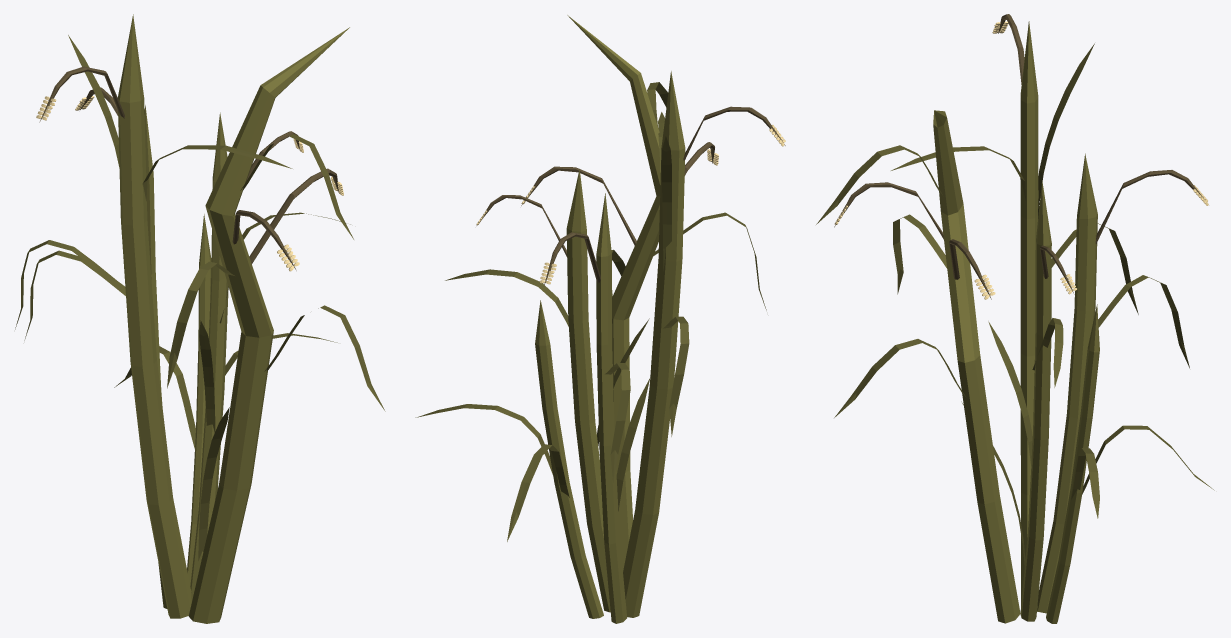
Rendered from Rice Ready.glb.
3 renders of one model, left to right at view 1: azimuth 30°, elevation 25°; view 2: azimuth 150°, elevation 25°; view 3: azimuth 270°, elevation 25°, orthographic. The views are drawn at different scales.
Visible parts, largest first — view 1: Cylinder.020; view 2: Cylinder.020; view 3: Cylinder.020.
Part boxes in pixels (<box>): Cylinder.020: <box>15,14,385,623</box>; Cylinder.020: <box>415,15,785,623</box>; Cylinder.020: <box>816,14,1214,623</box>.
Size of the model in its own units: 0.5074 by 0.8314 by 0.5302.
